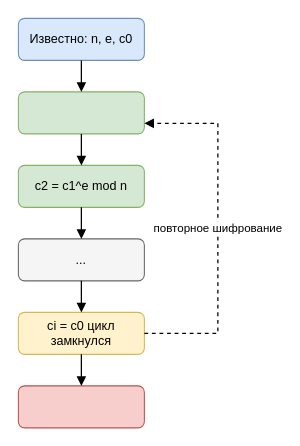
Image size: 300x446. Some labels were removed from this diagram. The box of each missing label's shape, as (x1, y1, x2, y2) in pixels:
c1 = c0^e mod n: (17, 91, 144, 134)
ci−1 — исходное сообщение m: (17, 385, 144, 428)
